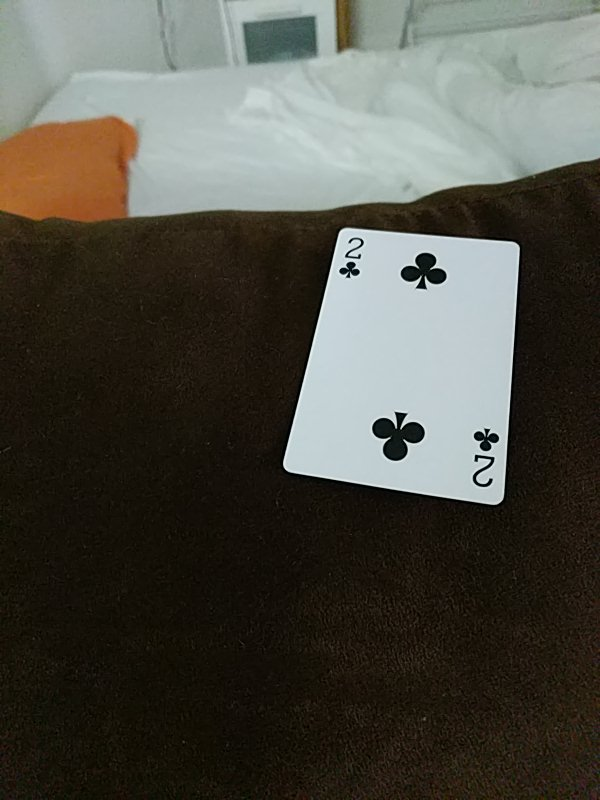Clubs: (283, 230, 520, 506)
